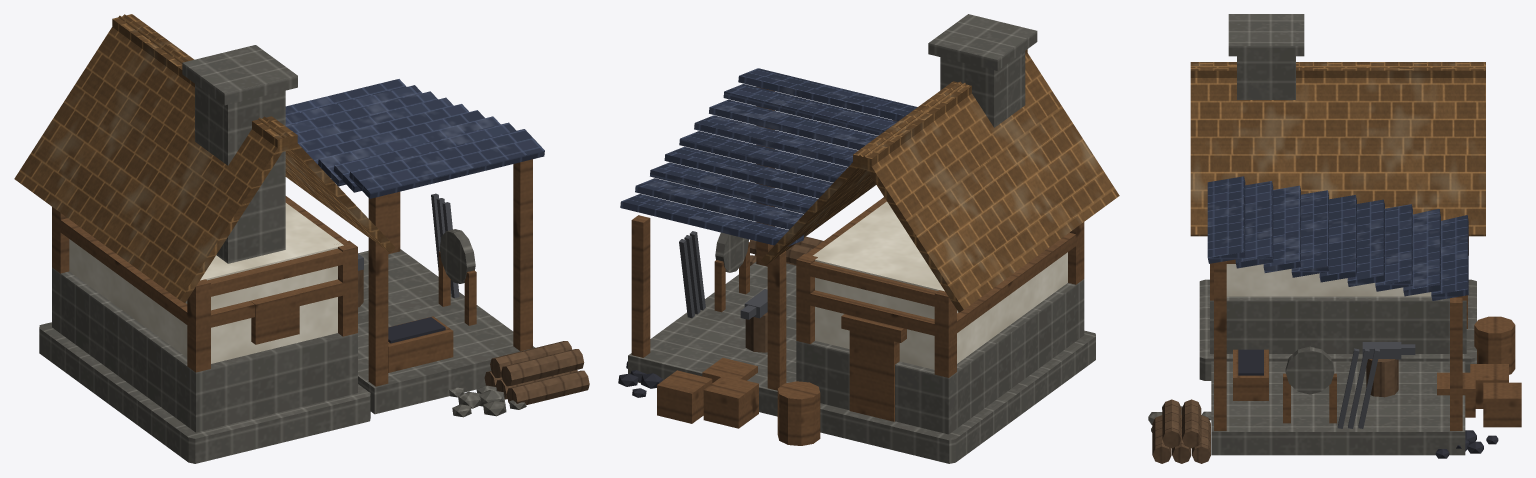
File: blacksmith.gltf
The picture shows the model from 3 angles, left to right: view 1: azimuth 30°, elevation 25°; view 2: azimuth 150°, elevation 25°; view 3: azimuth 270°, elevation 25°; orthographic projection. The views are drawn at different scales.
Visible parts, largest first — view 1: Blacksmith; view 2: Blacksmith; view 3: Blacksmith.
Part boxes in pixels (<box>): Blacksmith: <box>14,14,589,463</box>; Blacksmith: <box>618,14,1119,463</box>; Blacksmith: <box>1148,14,1521,463</box>.
Bounding box in the file's own units: 3.12 × 2.68 × 2.91.
Materials: 12 (10 with a texture image).
